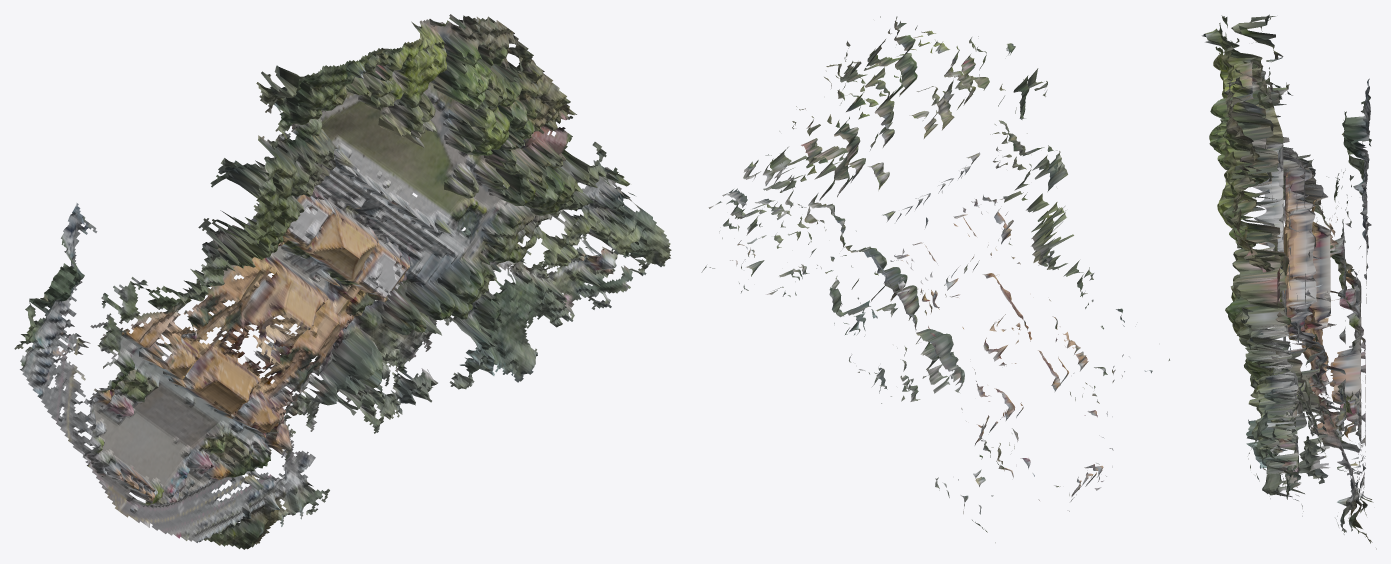
The model's file is wenwu_temple.glb.
The picture shows the model from 3 angles, left to right: view 1: azimuth 30°, elevation 25°; view 2: azimuth 150°, elevation 25°; view 3: azimuth 270°, elevation 25°; orthographic projection. The views are drawn at different scales.
Visible parts, largest first — view 1: world; view 2: world; view 3: world.
Boxes of the visible parts, x1,y1,x2,y2 form: world: [14, 14, 671, 549]; world: [701, 16, 1169, 542]; world: [1202, 14, 1376, 549].
Size of the model in its own units: 108 by 94.83 by 28.
